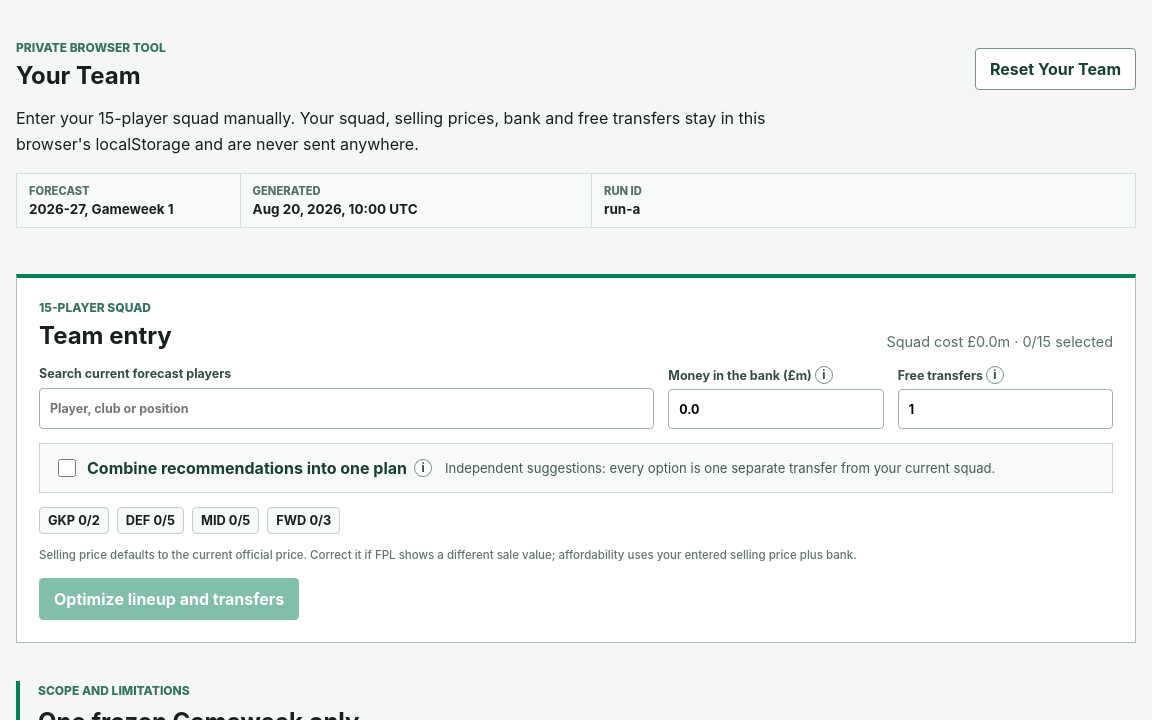
Your Team page › supports searchable manual selection and displays all required player metrics
Type "GKP Player 0" into the search field labelled "Search current forecast players".
click(347, 408); type("GKP Player 0")  # box [39,388,654,429]
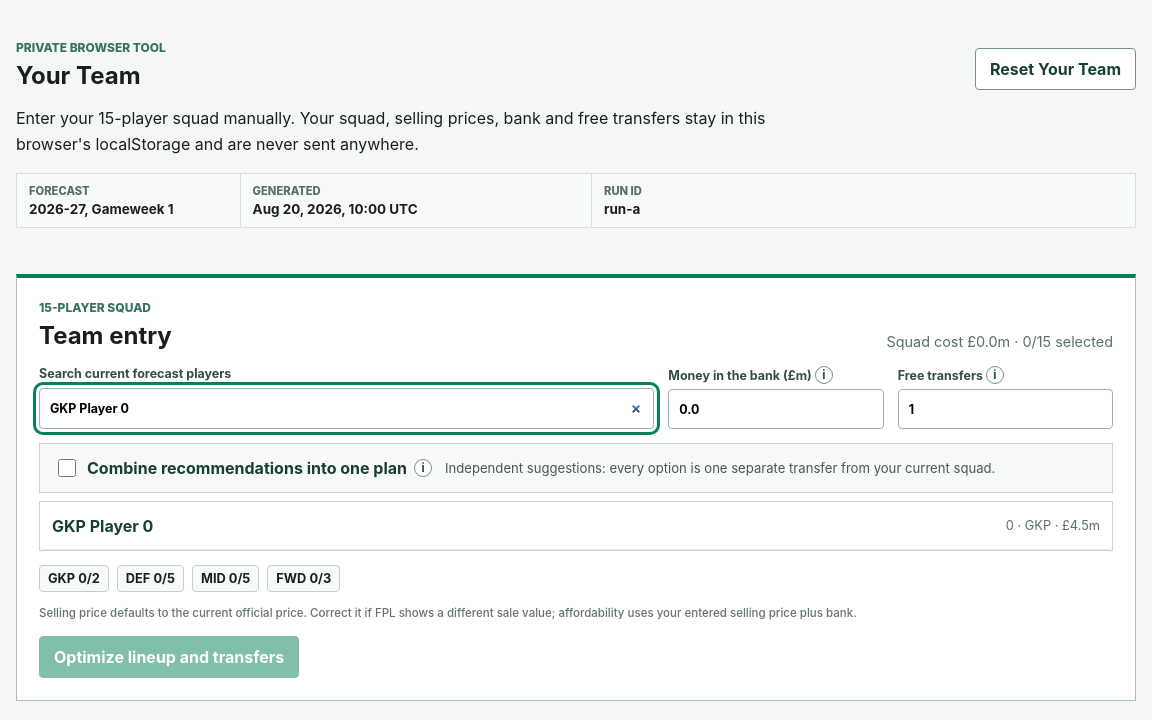
Click the list item.
click(103, 526)  # box [40,502,1112,550]
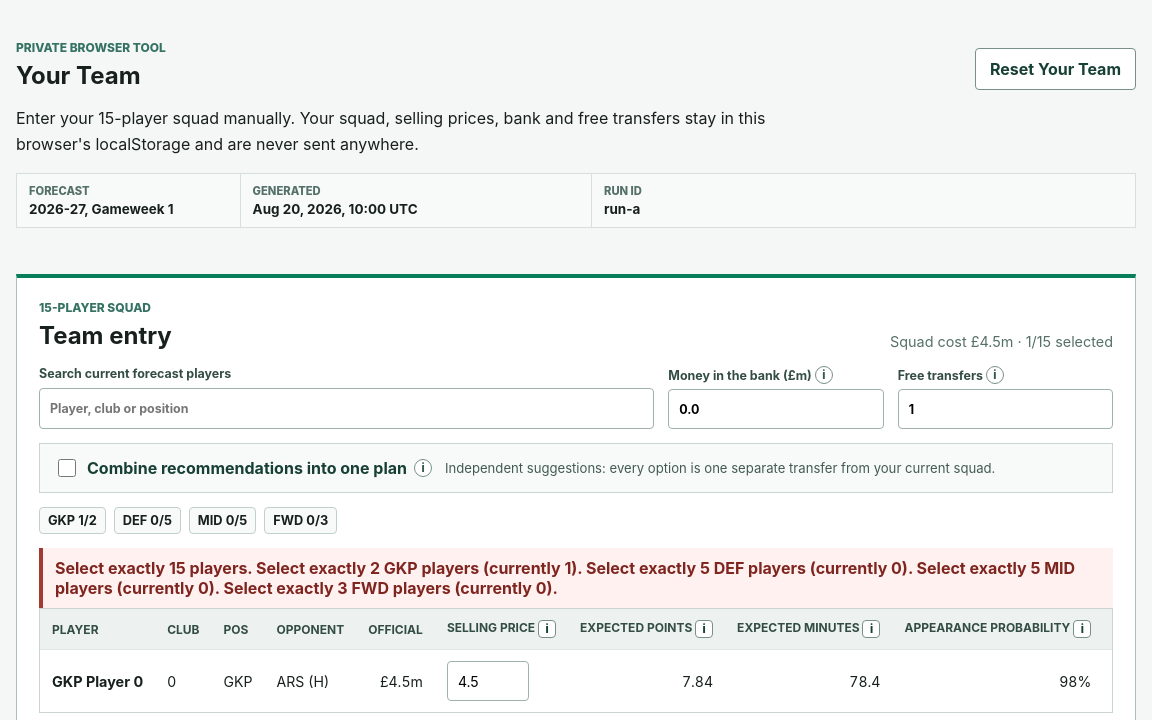
Expected: the text "ARS (H)" is shown, [264,650,356,712]
Expected: the number field named "GKP Player 0 selling price" holds "4.5", [447,661,529,701]
Expected: the cell "7.84" is shown, [568,650,725,712]
